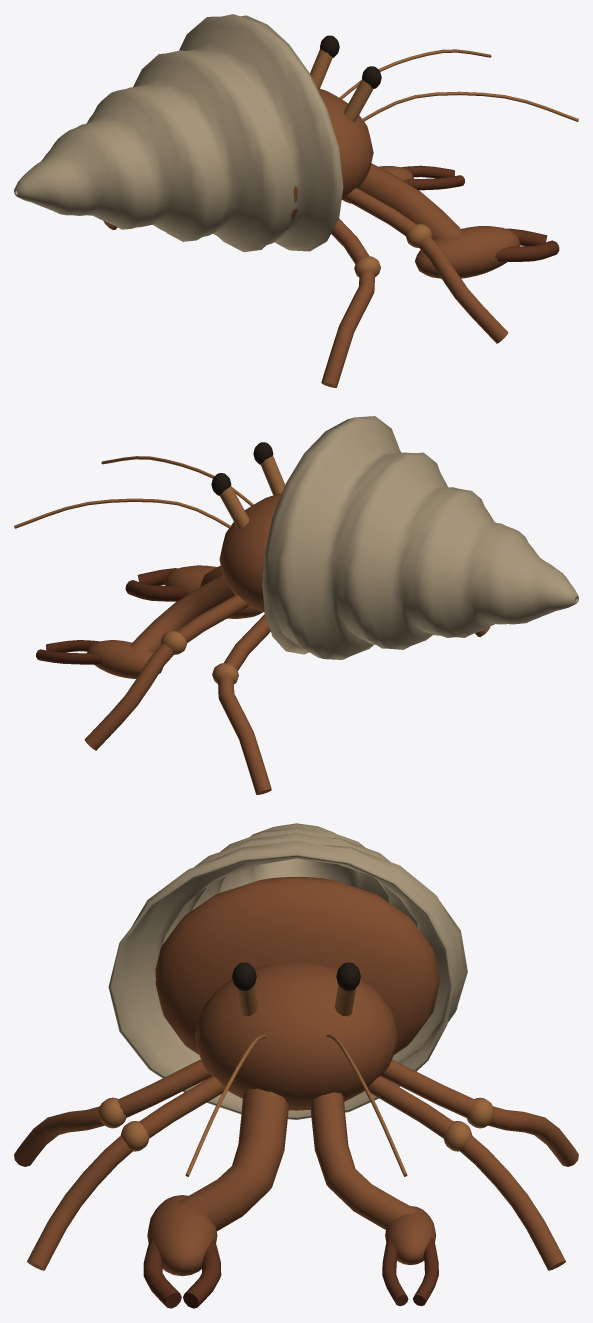
The model's file is A-NEW-20261026-HERMIT-CRAB-001_LOD1_R5.fbx.
3 renders of one model, top to bottom at view 1: azimuth 30°, elevation 25°; view 2: azimuth 150°, elevation 25°; view 3: azimuth 270°, elevation 25°, orthographic. The views are drawn at different scales.
Parts seen in each view (by area): view 1: occupied spiral shell hollow wall and lip, walking leg -1 0, claw palm -1, claw arm -1, walking leg -1 1, front shield, pincer finger -1 -1, antenna -1, pincer finger 1 -1, eye stalk -1, antenna 1, eye stalk 1 (+1 smaller); view 2: occupied spiral shell hollow wall and lip, front shield, walking leg 1 0, walking leg 1 1, claw arm 1, claw palm 1, claw palm -1, pincer finger -1 1, antenna 1, pincer finger 1 1, eye stalk 1, eye stalk -1 (+2 smaller); view 3: retracted abdomen inside aperture, occupied spiral shell hollow wall and lip, front shield, claw arm -1, claw arm 1, walking leg -1 0, walking leg 1 0, walking leg 1 1, walking leg -1 1, claw palm -1, claw palm 1, pincer finger -1 -1 (+9 smaller).
Part boxes in pixels (x1,y1,x2,y2): occupied spiral shell hollow wall and lip: (14,14,343,252); walking leg -1 0: (344,187,508,343); claw palm -1: (415,226,520,278); claw arm -1: (358,163,462,239); walking leg -1 1: (321,218,374,387); front shield: (317,88,373,199); pincer finger -1 -1: (495,240,559,261); antenna -1: (361,91,578,121); pincer finger 1 -1: (403,175,464,190); eye stalk -1: (343,79,373,122); antenna 1: (339,49,491,99); eye stalk 1: (310,49,332,88); occupied spiral shell hollow wall and lip: (262,416,578,659); front shield: (219,493,281,612); walking leg 1 0: (84,594,249,750); walking leg 1 1: (218,614,271,794); claw arm 1: (130,575,234,652); claw palm 1: (87,640,162,678); claw palm -1: (164,565,262,618); pincer finger -1 1: (125,580,188,601); antenna 1: (14,498,231,528); pincer finger 1 1: (36,649,102,664); eye stalk 1: (220,486,249,528); eye stalk -1: (260,455,284,495); retracted abdomen inside aperture: (155,877,440,1054); occupied spiral shell hollow wall and lip: (108,823,467,1119); front shield: (194,962,398,1110); claw arm -1: (176,1088,288,1231); claw arm 1: (310,1092,417,1229); walking leg -1 0: (27,1076,224,1270); walking leg 1 0: (368,1076,565,1270); walking leg 1 1: (381,1059,578,1166); walking leg -1 1: (14,1059,211,1166); claw palm -1: (147,1195,217,1276); claw palm 1: (385,1206,436,1265); pincer finger -1 -1: (143,1238,181,1308).
Size of the model in its own units: 29.95 by 15.36 by 22.77.
